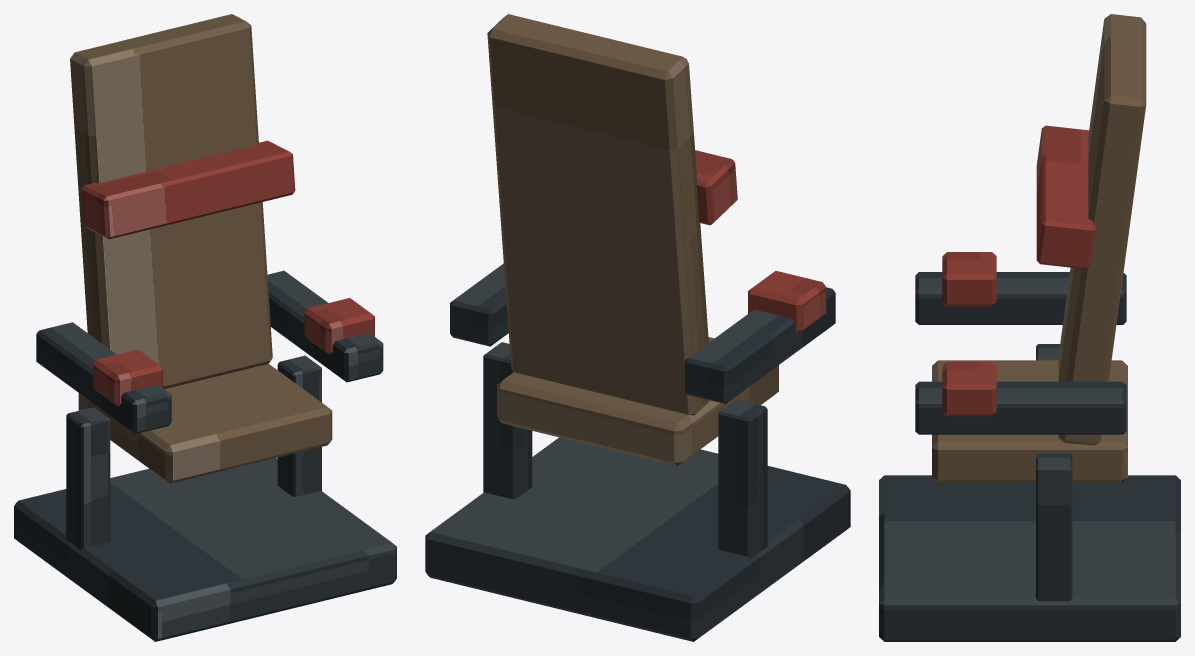
The model's file is restraint_chair.glb.
3 renders of one model, left to right at view 1: azimuth 30°, elevation 25°; view 2: azimuth 150°, elevation 25°; view 3: azimuth 270°, elevation 25°, orthographic. The views are drawn at different scales.
Visible parts, largest first — view 1: Back, StoneBase, Seat, ChestRestraint, Leg_L, Arm_L, Arm_R, Leg_R, WristCuff_L, WristCuff_R; view 2: Back, StoneBase, Seat, Arm_L, Leg_L, Leg_R, Arm_R, WristCuff_L, ChestRestraint; view 3: StoneBase, Back, Seat, Arm_R, ChestRestraint, Arm_L, Leg_R, WristCuff_L, WristCuff_R.
Boxes of the visible parts, x1,y1,x2,y2 form: Back: [70, 14, 272, 389]; StoneBase: [14, 458, 396, 641]; Seat: [78, 364, 332, 483]; ChestRestraint: [81, 140, 295, 239]; Leg_L: [66, 407, 110, 549]; Arm_L: [36, 322, 171, 433]; Arm_R: [267, 270, 383, 382]; Leg_R: [277, 355, 321, 496]; WristCuff_L: [93, 349, 163, 405]; WristCuff_R: [304, 298, 374, 354]; Back: [487, 14, 709, 415]; StoneBase: [425, 437, 850, 641]; Seat: [497, 337, 778, 465]; Arm_L: [685, 287, 835, 403]; Leg_L: [718, 399, 767, 558]; Leg_R: [483, 342, 532, 499]; Arm_R: [450, 263, 508, 346]; WristCuff_L: [748, 271, 826, 333]; ChestRestraint: [695, 150, 737, 225]; StoneBase: [879, 475, 1180, 641]; Back: [1058, 14, 1146, 445]; Seat: [932, 360, 1127, 482]; Arm_R: [915, 381, 1126, 434]; ChestRestraint: [1036, 125, 1095, 269]; Arm_L: [915, 272, 1126, 324]; Leg_R: [1036, 453, 1072, 601]; WristCuff_L: [942, 252, 996, 306]; WristCuff_R: [942, 362, 996, 416].
Size of the model in its own units: 1.06 by 1.92 by 1.
Materials: 3 (3 with a texture image).
